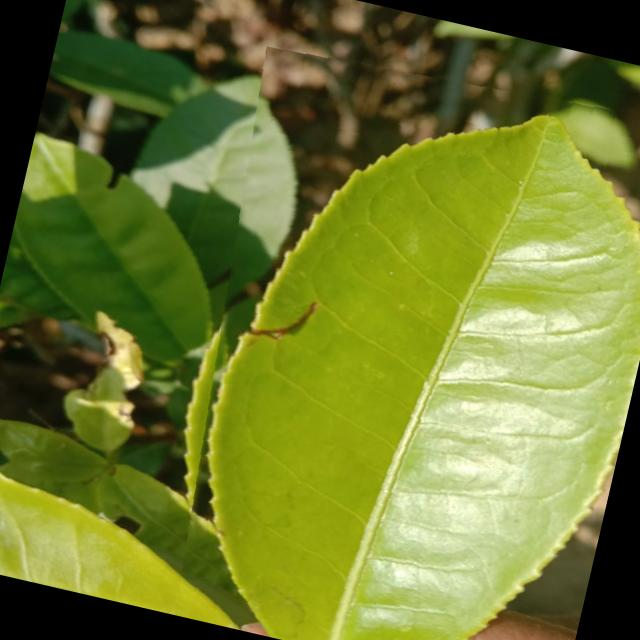Category B(2-4 days): (137, 27, 640, 640)
